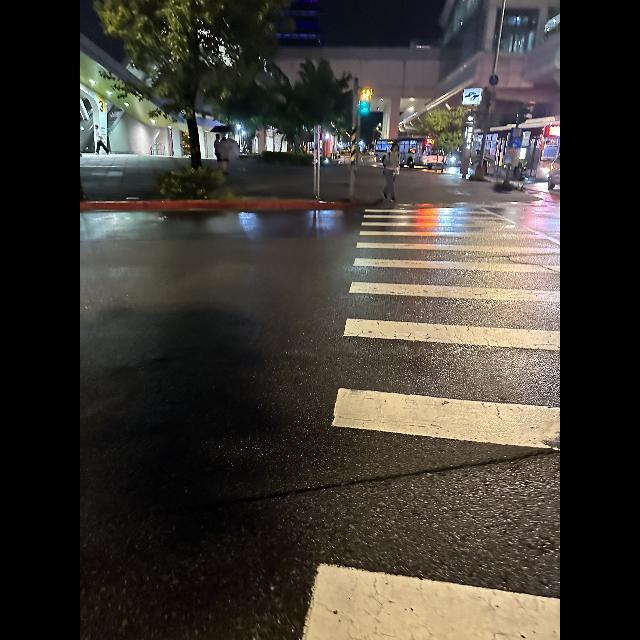sidewalk: (305, 203, 560, 638)
